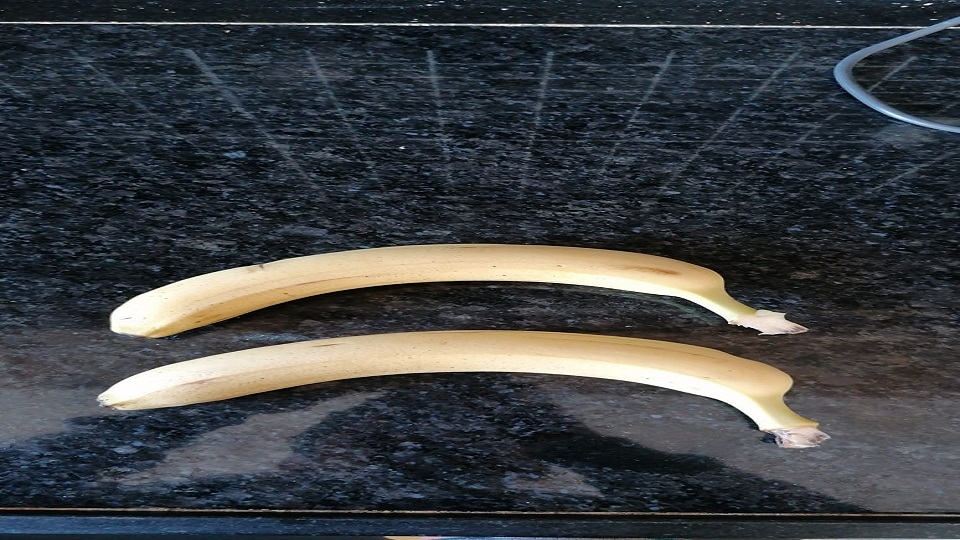muz: (100, 329, 822, 429), (108, 243, 803, 346)
